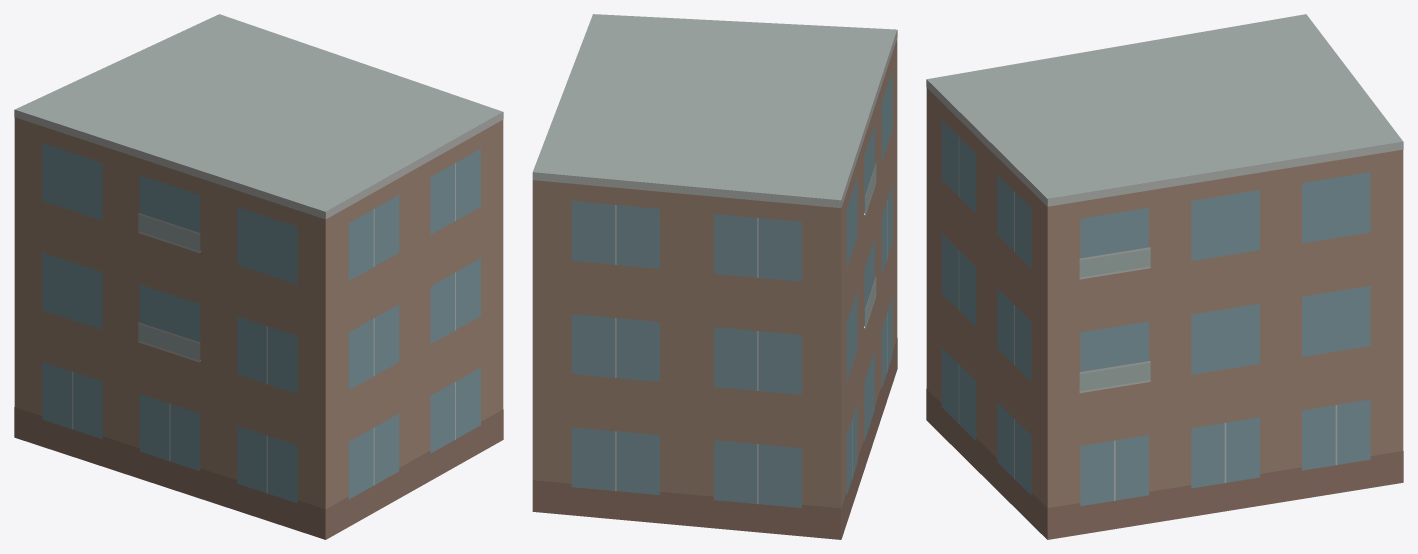
The model's file is survey-upis-32852369.glb.
3 views of the same model, side by side, from view 1: azimuth 30°, elevation 25°; view 2: azimuth 150°, elevation 25°; view 3: azimuth 270°, elevation 25° (orthographic). The views are drawn at different scales.
Visible parts, largest first — view 1: survey-upis-32852369.tmp; view 2: survey-upis-32852369.tmp; view 3: survey-upis-32852369.tmp.
Part boxes in pixels (box(x1,y1,x2,y2)): survey-upis-32852369.tmp: box(14, 14, 503, 539); survey-upis-32852369.tmp: box(532, 14, 897, 539); survey-upis-32852369.tmp: box(926, 14, 1403, 539).
Bounding box in the file's own units: 12.22 × 10.5 × 13.32.
